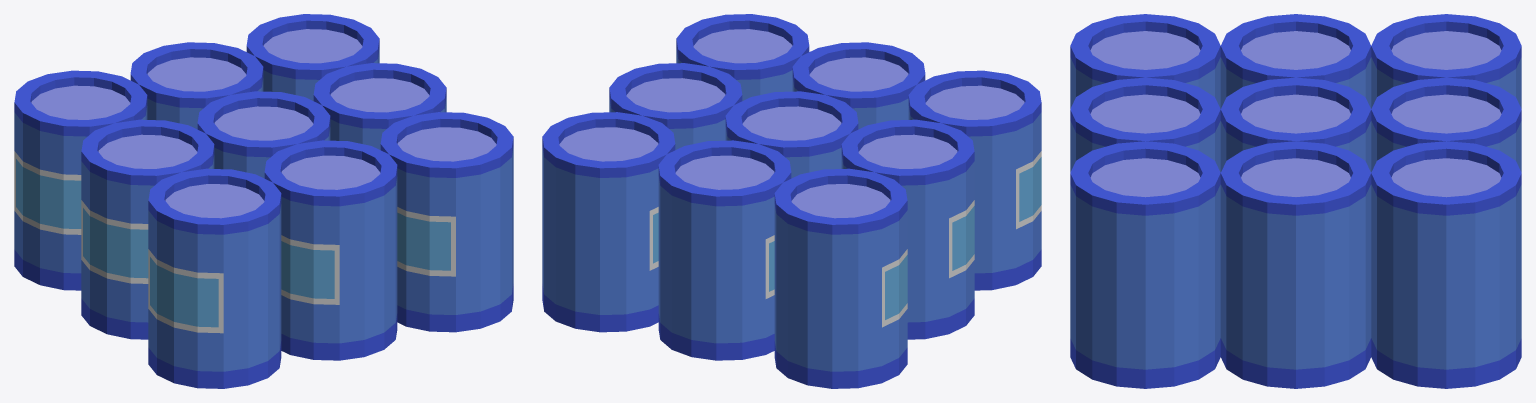
Rendered from can.fbx.
3 views of the same model, side by side, from view 1: azimuth 30°, elevation 25°; view 2: azimuth 150°, elevation 25°; view 3: azimuth 270°, elevation 25° (orthographic). The views are drawn at different scales.
Parts seen in each view (by area): view 1: Cylinder; view 2: Cylinder; view 3: Cylinder.
Boxes of the visible parts, left/top/right/bottom form: Cylinder: left=14, top=14, right=513, bottom=388; Cylinder: left=542, top=14, right=1041, bottom=388; Cylinder: left=1070, top=14, right=1521, bottom=388.
Bounding box in the file's own units: 359 × 161 × 359.
